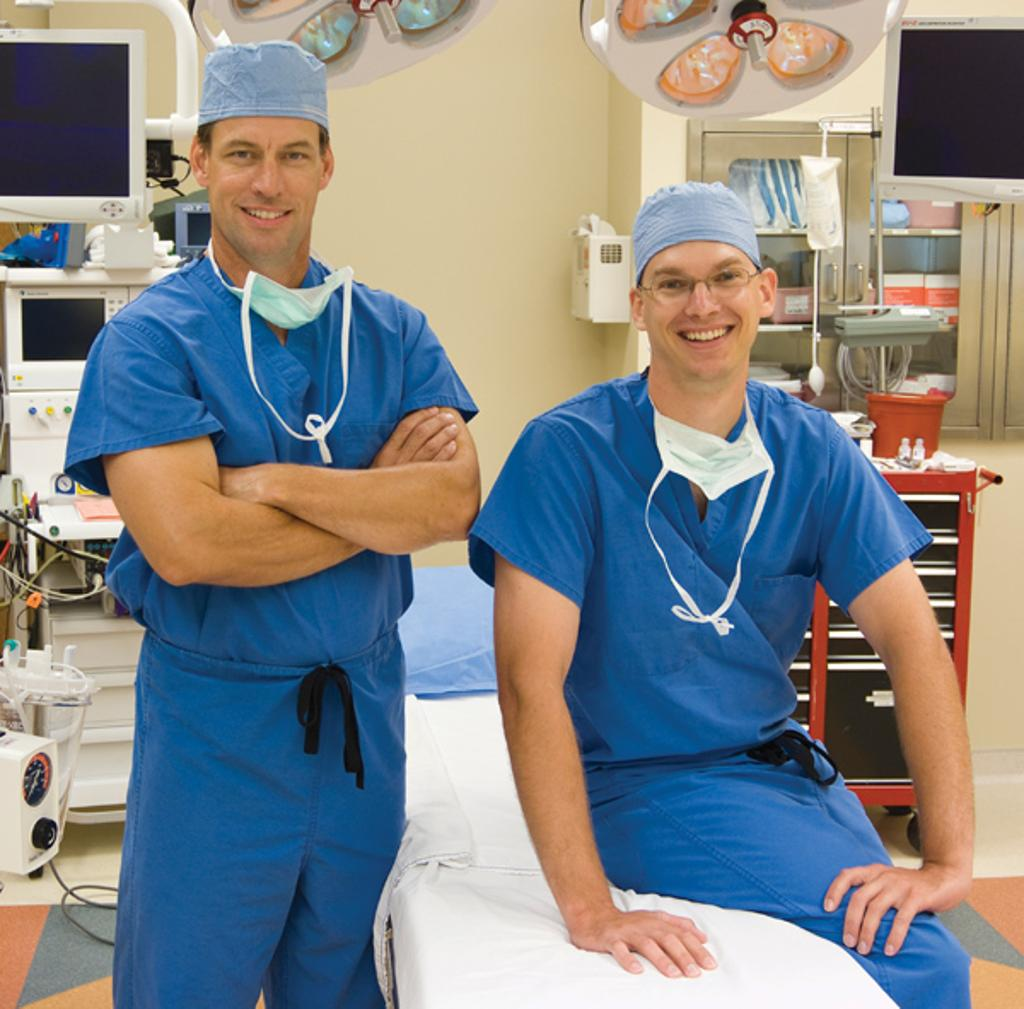face: (206, 104, 324, 246), (648, 232, 758, 384)
